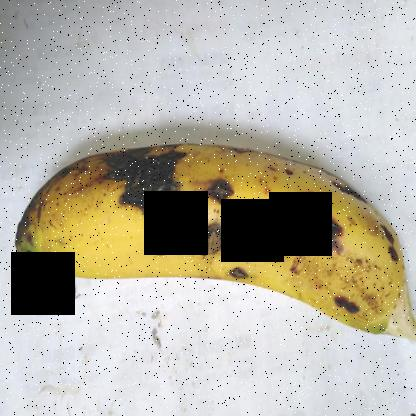rotten: (102, 123, 188, 222), (188, 172, 246, 253), (286, 183, 344, 257), (376, 213, 414, 267), (329, 165, 375, 208), (217, 255, 262, 297), (148, 234, 173, 270)
